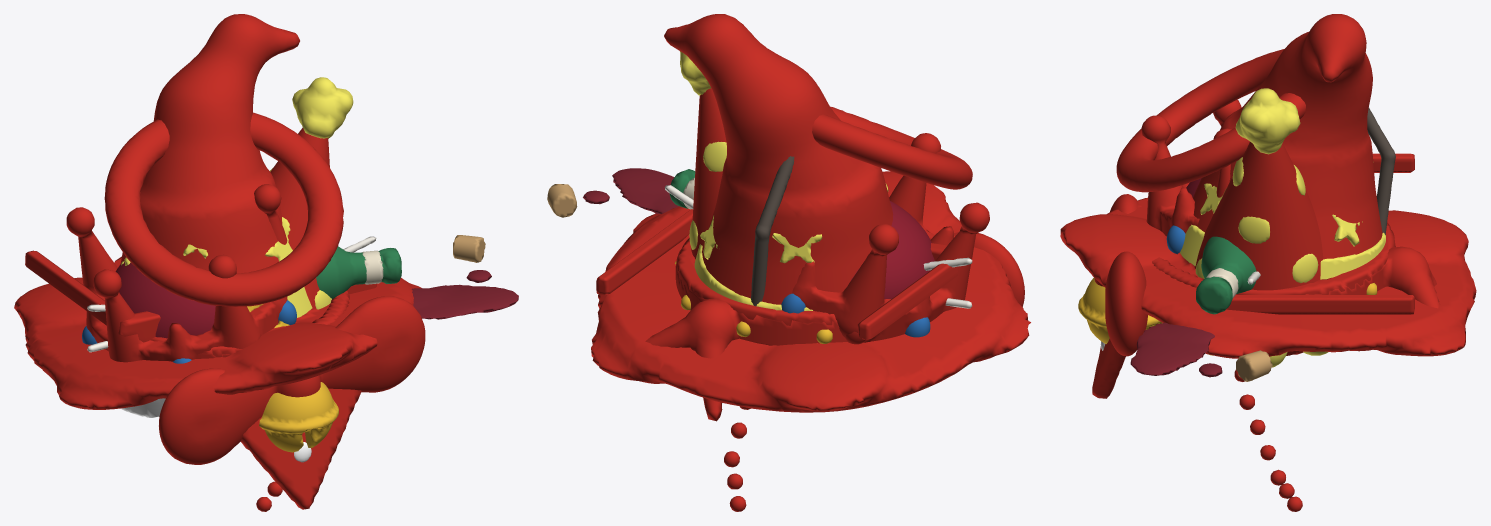
Rendered from cat-kit.glb.
The picture shows the model from 3 angles, left to right: view 1: azimuth 30°, elevation 25°; view 2: azimuth 150°, elevation 25°; view 3: azimuth 270°, elevation 25°; orthographic projection. The views are drawn at different scales.
Visible parts, largest first — view 1: accessory_wizardHat, accessory_halo, accessory_crown, accessory_bowTie, prop_bottle, accessory_partyHat, accessory_bandana, accessory_bellCollar, accessory_sunglasses; view 2: accessory_wizardHat, accessory_crown, accessory_halo, accessory_bandana, accessory_sunglasses, accessory_partyHat, prop_bottle, accessory_bellCollar, accessory_bowTie, accessory_monocle, whiskers_L; view 3: accessory_wizardHat, accessory_partyHat, accessory_halo, prop_bottle, accessory_sunglasses, accessory_bandana, accessory_crown, accessory_bellCollar, accessory_bowTie, accessory_monocle.
Part boxes in pixels (x1=…): accessory_wizardHat: x1=14, y1=14, x2=421, y2=409; accessory_halo: x1=104, y1=112, x2=343, y2=306; accessory_crown: x1=66, y1=184, x2=296, y2=417; accessory_bowTie: x1=159, y1=296, x2=425, y2=464; prop_bottle: x1=316, y1=235, x2=518, y2=319; accessory_partyHat: x1=270, y1=77, x2=353, y2=309; accessory_bandana: x1=196, y1=352, x2=361, y2=509; accessory_bellCollar: x1=150, y1=290, x2=349, y2=452; accessory_sunglasses: x1=25, y1=250, x2=376, y2=342; accessory_wizardHat: x1=591, y1=14, x2=1030, y2=412; accessory_crown: x1=781, y1=133, x2=989, y2=344; accessory_halo: x1=750, y1=106, x2=972, y2=306; accessory_bandana: x1=645, y1=256, x2=847, y2=421; accessory_sunglasses: x1=596, y1=209, x2=957, y2=339; accessory_partyHat: x1=680, y1=51, x2=726, y2=259; prop_bottle: x1=547, y1=168, x2=695, y2=217; accessory_bellCollar: x1=675, y1=238, x2=835, y2=343; accessory_bowTie: x1=954, y1=232, x2=1024, y2=306; accessory_monocle: x1=724, y1=406, x2=750, y2=511; whiskers_L: x1=923, y1=257, x2=972, y2=308; accessory_wizardHat: x1=1060, y1=14, x2=1476, y2=358; accessory_partyHat: x1=1194, y1=88, x2=1328, y2=367; accessory_halo: x1=1116, y1=49, x2=1395, y2=235; prop_bottle: x1=1130, y1=236, x2=1272, y2=381; accessory_sunglasses: x1=1226, y1=153, x2=1414, y2=314; accessory_bandana: x1=1092, y1=204, x2=1440, y2=398; accessory_crown: x1=1141, y1=99, x2=1241, y2=254; accessory_bellCollar: x1=1078, y1=222, x2=1394, y2=343; accessory_bowTie: x1=1094, y1=194, x2=1147, y2=356; accessory_monocle: x1=1234, y1=370, x2=1302, y2=511.
Size of the model in its own units: 0.8294 by 0.8783 by 0.6711.
